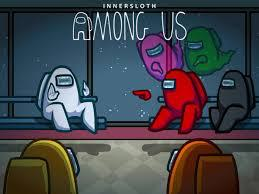amongus: (40, 66, 98, 132), (158, 72, 205, 128), (209, 74, 253, 127), (184, 30, 230, 73), (139, 34, 184, 77)
